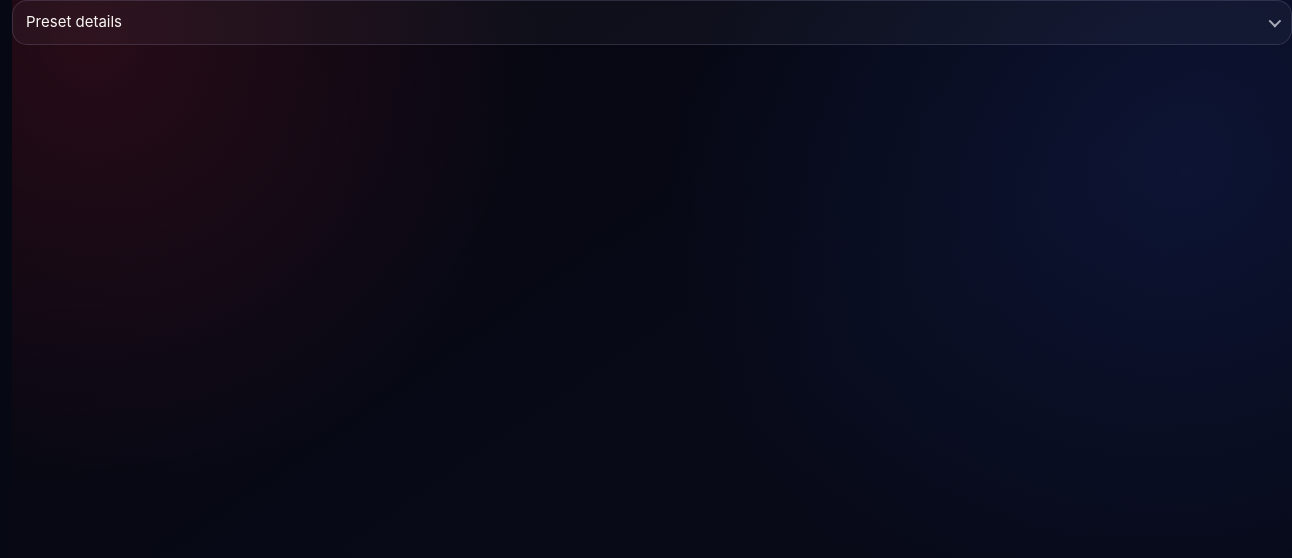
Disclosure › keeps compact auxiliary detail collapsed until explicitly opened
Expected: the text "Profile hash" is not shown
Click the heading "Preset details" at point(74, 22), box [12,0,1291,44]
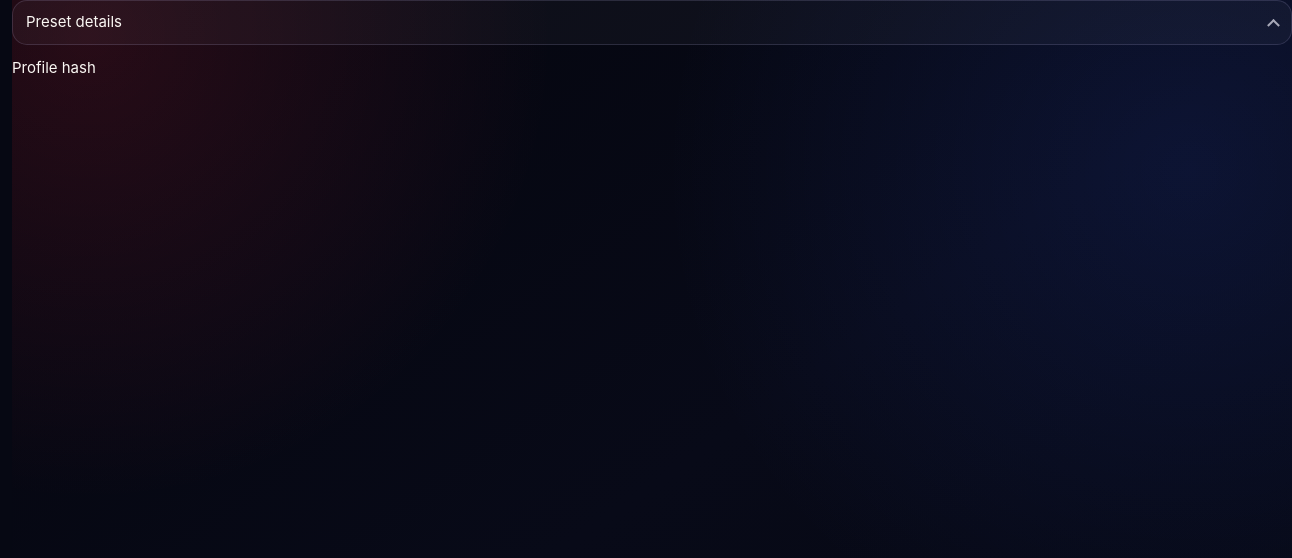
Expected: the text "Profile hash" is shown, [12,58,96,76]
